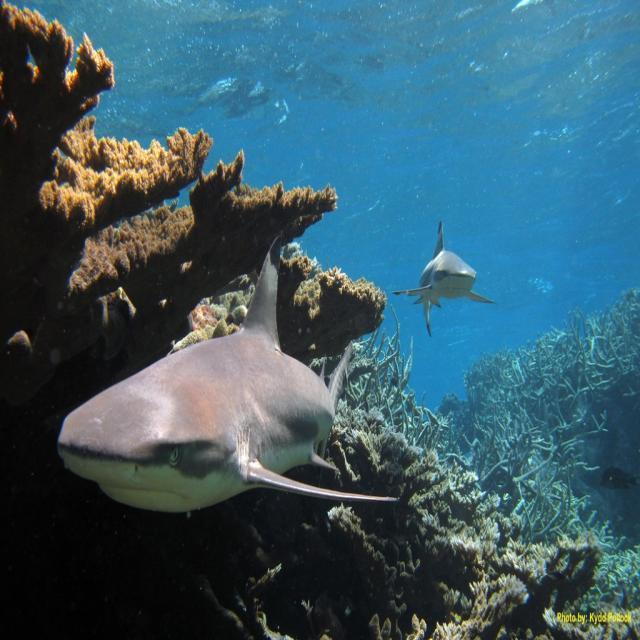Shark: (61, 229, 398, 516), (395, 218, 497, 336)
